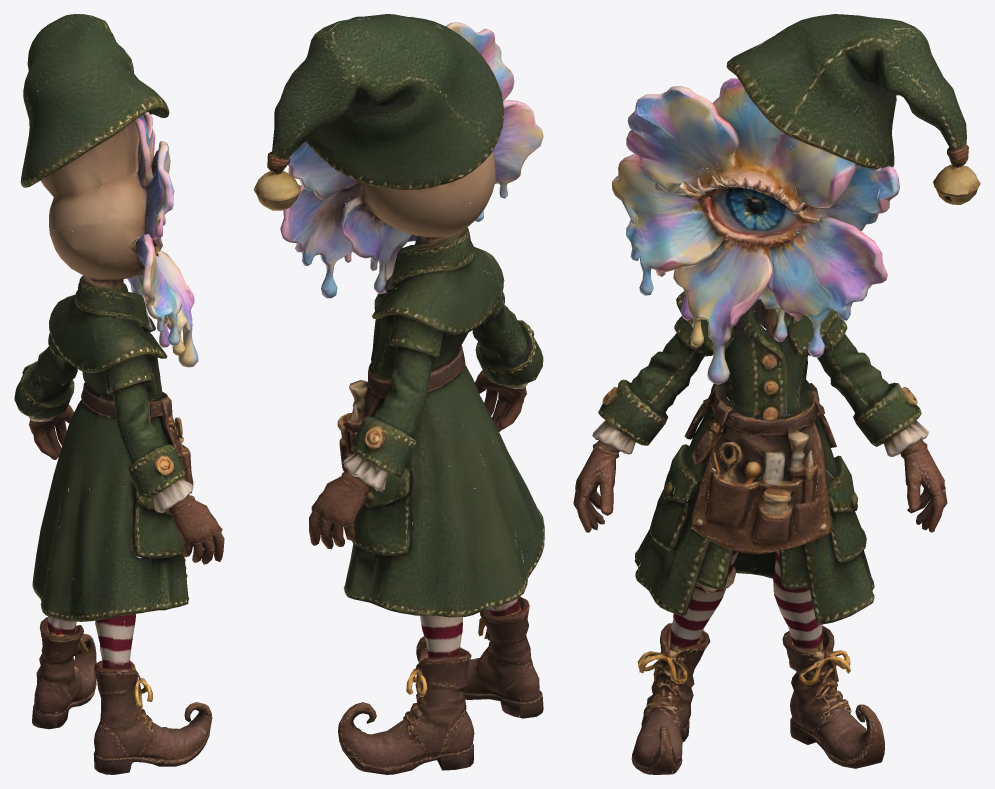
Rendered from lt_elf.glb.
3 renders of one model, left to right at view 1: azimuth 30°, elevation 25°; view 2: azimuth 150°, elevation 25°; view 3: azimuth 270°, elevation 25°, orthographic. The views are drawn at different scales.
Visible parts, largest first — view 1: tripo_node_96a1318f-813a-4cf8-9b6e-bf6c11dfaa2c; view 2: tripo_node_96a1318f-813a-4cf8-9b6e-bf6c11dfaa2c; view 3: tripo_node_96a1318f-813a-4cf8-9b6e-bf6c11dfaa2c.
Boxes of the visible parts, x1=… form: tripo_node_96a1318f-813a-4cf8-9b6e-bf6c11dfaa2c: x1=14, y1=14, x2=224, y2=774; tripo_node_96a1318f-813a-4cf8-9b6e-bf6c11dfaa2c: x1=254, y1=14, x2=544, y2=774; tripo_node_96a1318f-813a-4cf8-9b6e-bf6c11dfaa2c: x1=573, y1=14, x2=980, y2=774.
Bounding box in the file's own units: 0.2441 × 1 × 0.493.
Materials: 1 (1 with a texture image).
